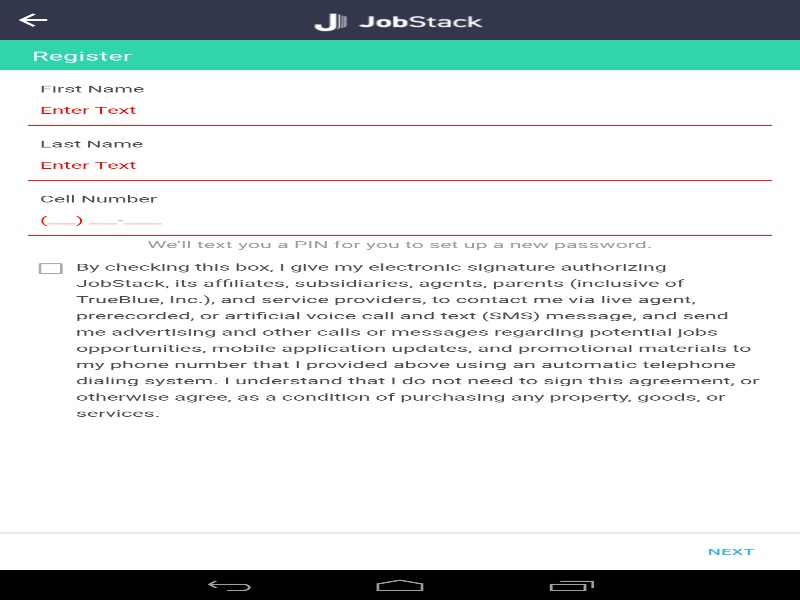Button: (266, 11, 533, 33), (688, 532, 773, 570), (5, 3, 61, 36)
Input: (28, 95, 772, 125), (28, 150, 772, 180), (28, 205, 772, 235)
